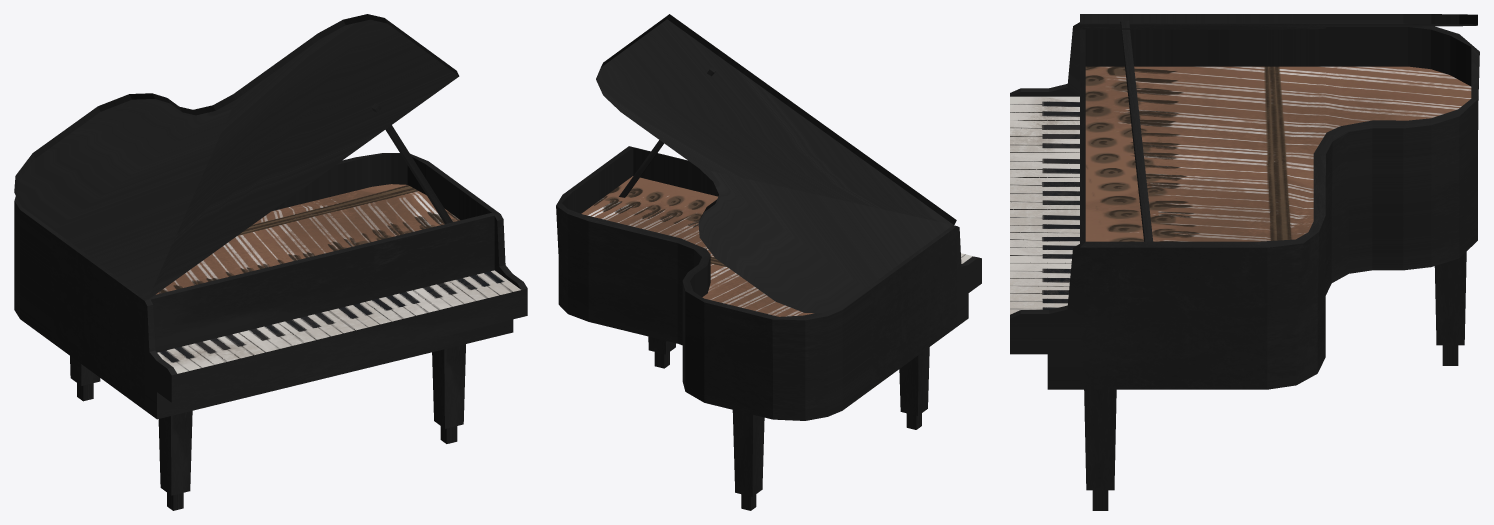
File: piano.fbx
3 views of the same model, side by side, from view 1: azimuth 30°, elevation 25°; view 2: azimuth 150°, elevation 25°; view 3: azimuth 270°, elevation 25° (orthographic). The views are drawn at different scales.
Parts seen in each view (by area): view 1: Cube, Cube.001, Cube.004, Cube.003, Cube.005, Cube.002; view 2: Cube, Cube.001, Cube.002, Cube.003, Cube.004, Cube.005; view 3: Cube, Cube.001, Cube.004, Cube.002, Cube.005.
Boxes of the visible parts, bbox=[...] form: Cube: bbox=[14, 153, 527, 419]; Cube.001: bbox=[14, 14, 459, 299]; Cube.004: bbox=[432, 344, 465, 443]; Cube.003: bbox=[158, 411, 192, 510]; Cube.005: bbox=[371, 103, 452, 223]; Cube.002: bbox=[70, 356, 100, 401]; Cube: bbox=[556, 146, 981, 420]; Cube.001: bbox=[596, 14, 956, 313]; Cube.002: bbox=[732, 410, 764, 510]; Cube.003: bbox=[899, 347, 929, 429]; Cube.004: bbox=[648, 336, 676, 368]; Cube.005: bbox=[619, 67, 715, 197]; Cube: bbox=[1010, 22, 1479, 389]; Cube.001: bbox=[1080, 14, 1477, 29]; Cube.004: bbox=[1084, 389, 1116, 510]; Cube.002: bbox=[1434, 252, 1466, 365]; Cube.005: bbox=[1120, 20, 1153, 241].
Bounding box in the file's own units: 316 × 319 × 278.
Materials: 3 (3 with a texture image).
